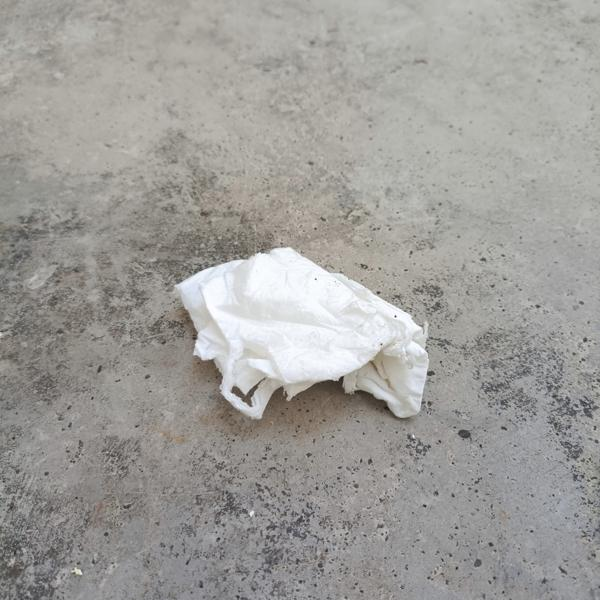Organik: (163, 225, 458, 450)
